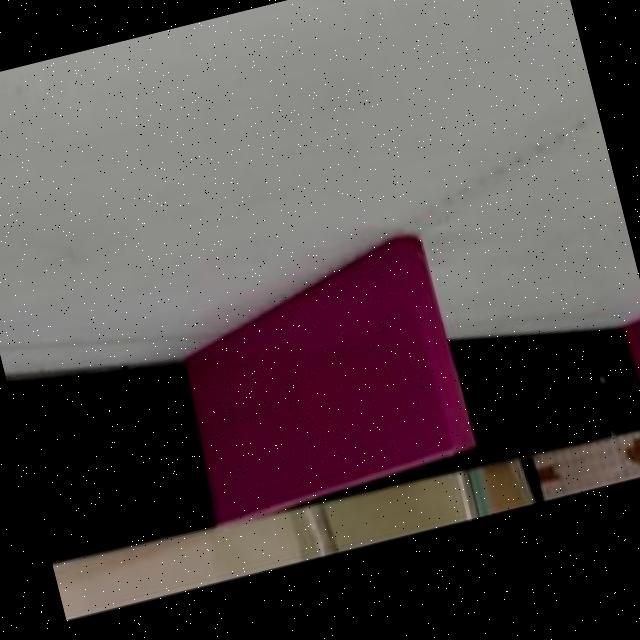xparking: (170, 257, 468, 502), (627, 313, 640, 426)
